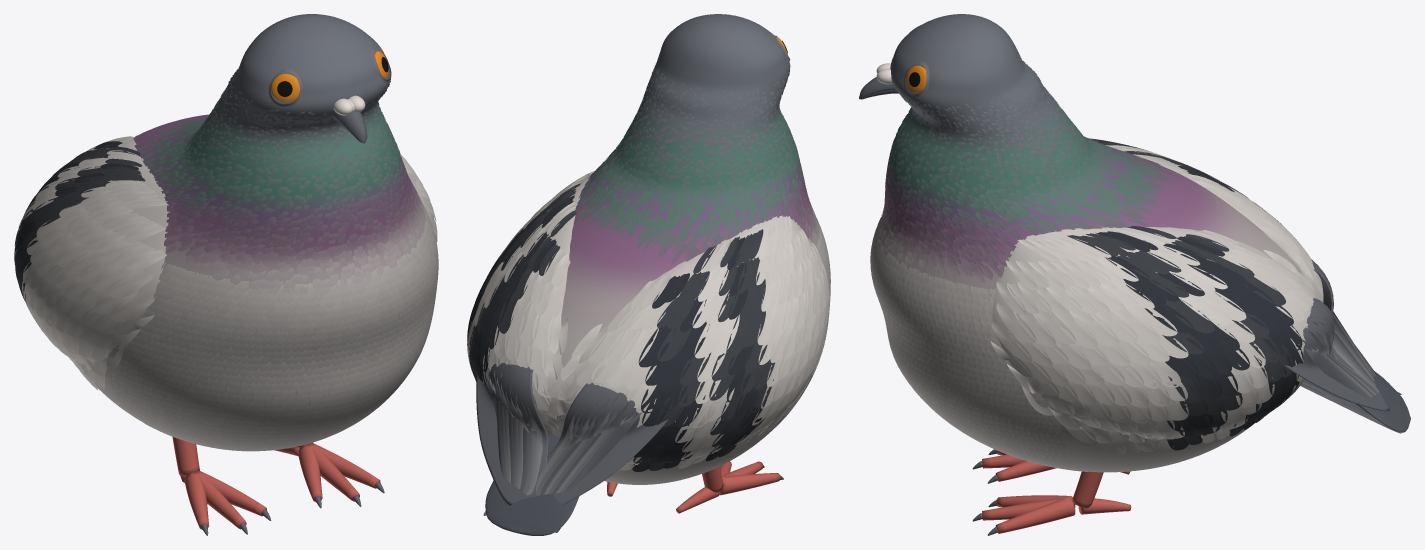
The model's file is pigeon.glb.
3 renders of one model, left to right at view 1: azimuth 30°, elevation 25°; view 2: azimuth 150°, elevation 25°; view 3: azimuth 270°, elevation 25°, orthographic. The views are drawn at different scales.
Visible parts, largest first — view 1: Body_neck_head_continuous, Plumage_neck_gradient, Plumage_breast_0, Plumage_breast_1, Plumage_breast_2, Plumage_covert_1, Plumage_covert_0, Plumage_covert_2, Plumage_bar_1, Wing_shoulder_wrapped_Right, Plumage_bar_0, Front_toe_Right_2 (+10 smaller); view 2: Body_neck_head_continuous, Plumage_neck_gradient, Plumage_covert_0, Plumage_bar_1, Plumage_covert_1, Plumage_bar_0, Plumage_covert_2, Wing_folded_flight_bundle_Right, Wing_folded_flight_bundle_Left, Plumage_flight_0, Tail_anatomical_envelope, Plumage_flight_2 (+8 smaller); view 3: Body_neck_head_continuous, Plumage_neck_gradient, Plumage_covert_0, Plumage_covert_2, Plumage_covert_1, Plumage_bar_0, Plumage_bar_1, Plumage_breast_0, Plumage_breast_2, Plumage_breast_1, Wing_folded_flight_bundle_Left, Wing_shoulder_wrapped_Left (+11 smaller).
Boxes of the visible parts, <box> form: Body_neck_head_continuous: <box>95,14,435,448</box>; Plumage_neck_gradient: <box>134,69,424,294</box>; Plumage_breast_0: <box>105,201,438,451</box>; Plumage_breast_1: <box>107,206,438,451</box>; Plumage_breast_2: <box>110,209,438,450</box>; Plumage_covert_1: <box>22,159,435,388</box>; Plumage_covert_0: <box>14,138,436,389</box>; Plumage_covert_2: <box>17,136,437,372</box>; Plumage_bar_1: <box>14,147,145,301</box>; Wing_shoulder_wrapped_Right: <box>89,139,169,310</box>; Plumage_bar_0: <box>14,141,138,326</box>; Front_toe_Right_2: <box>193,470,246,529</box>; Body_neck_head_continuous: <box>556,14,829,484</box>; Plumage_neck_gradient: <box>574,64,820,263</box>; Plumage_covert_0: <box>467,182,829,470</box>; Plumage_bar_1: <box>469,183,775,470</box>; Plumage_covert_1: <box>467,173,829,472</box>; Plumage_bar_0: <box>467,195,767,471</box>; Plumage_covert_2: <box>483,171,827,456</box>; Wing_folded_flight_bundle_Right: <box>547,382,668,504</box>; Wing_folded_flight_bundle_Left: <box>476,363,548,505</box>; Plumage_flight_0: <box>487,368,641,495</box>; Tail_anatomical_envelope: <box>485,435,579,535</box>; Plumage_flight_2: <box>491,365,627,495</box>; Body_neck_head_continuous: <box>871,14,1303,472</box>; Plumage_neck_gradient: <box>875,61,1175,282</box>; Plumage_covert_0: <box>996,141,1322,455</box>; Plumage_covert_2: <box>991,159,1323,450</box>; Plumage_covert_1: <box>1008,197,1323,451</box>; Plumage_bar_0: <box>1095,141,1303,429</box>; Plumage_bar_1: <box>1067,138,1293,450</box>; Plumage_breast_0: <box>870,236,1077,470</box>; Plumage_breast_2: <box>870,228,1088,471</box>; Plumage_breast_1: <box>870,233,1075,470</box>; Wing_folded_flight_bundle_Left: <box>1284,298,1389,411</box>; Wing_shoulder_wrapped_Left: <box>992,227,1241,343</box>.
Bounding box in the file's own units: 0.7215 × 0.9747 × 1.03.
